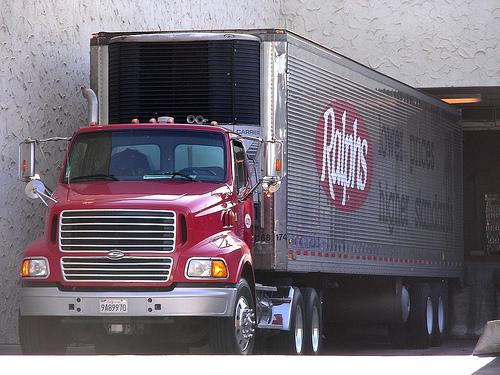truck: (17, 27, 463, 357)
